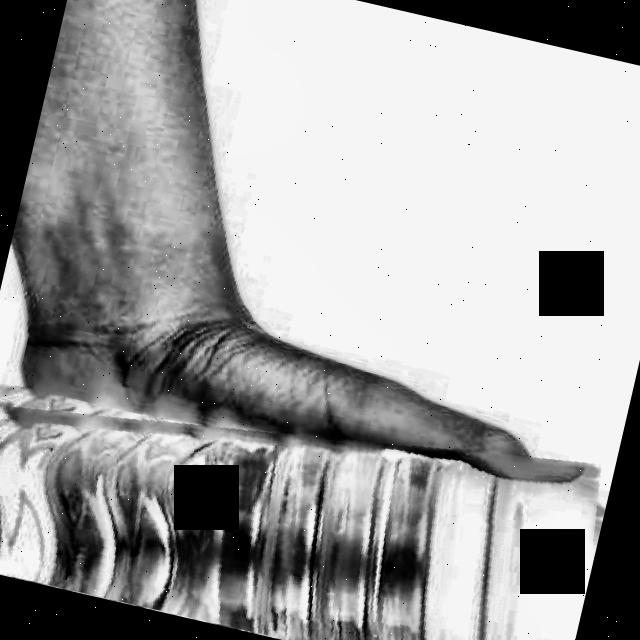bottle: (0, 417, 599, 640)
